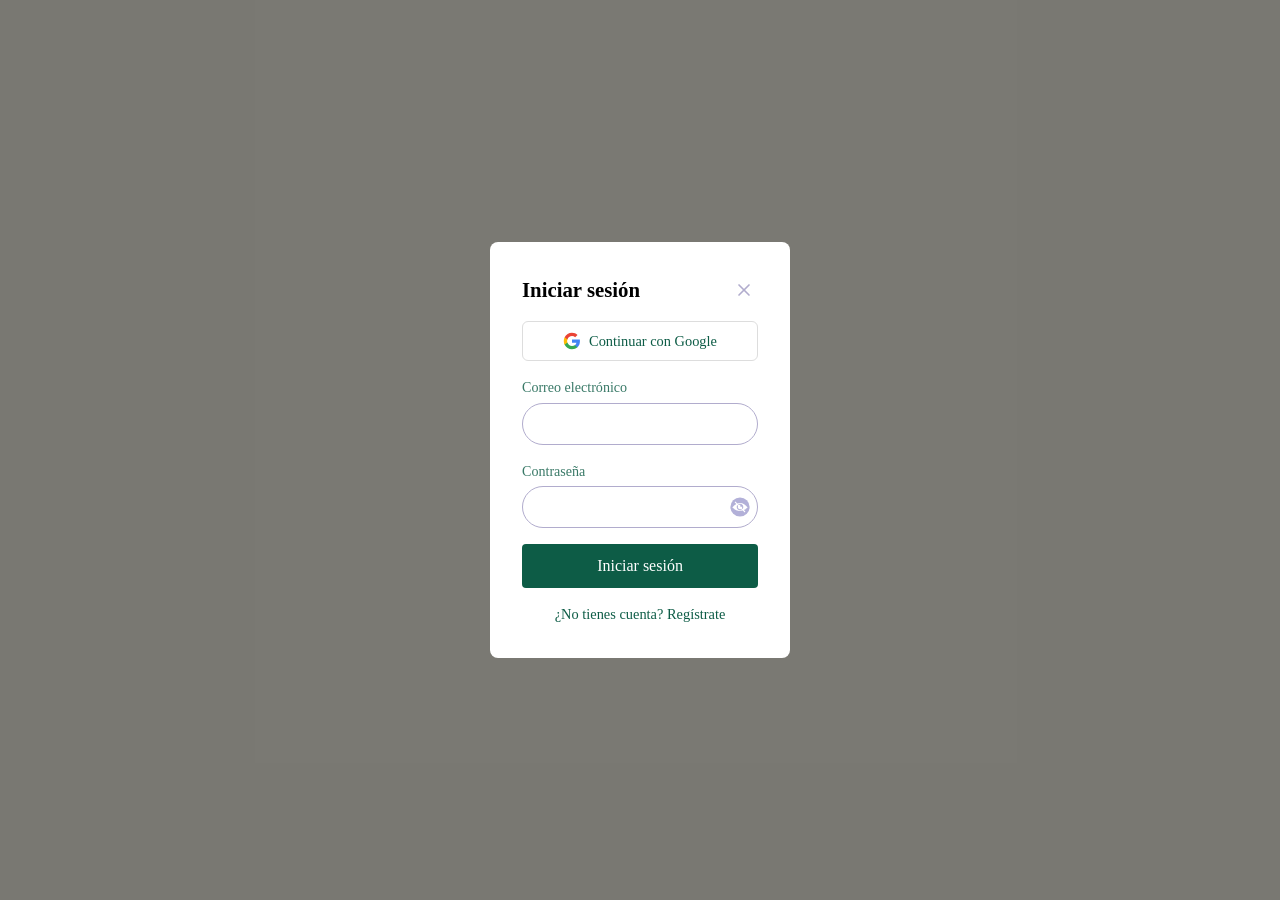
Test: LoginModal component › shows loading state during submission
The width and height of the screenshot is (1280, 900).
In the field labelled "Correo electrónico": (640, 424) [522,403,758,445], type "test@example.com"
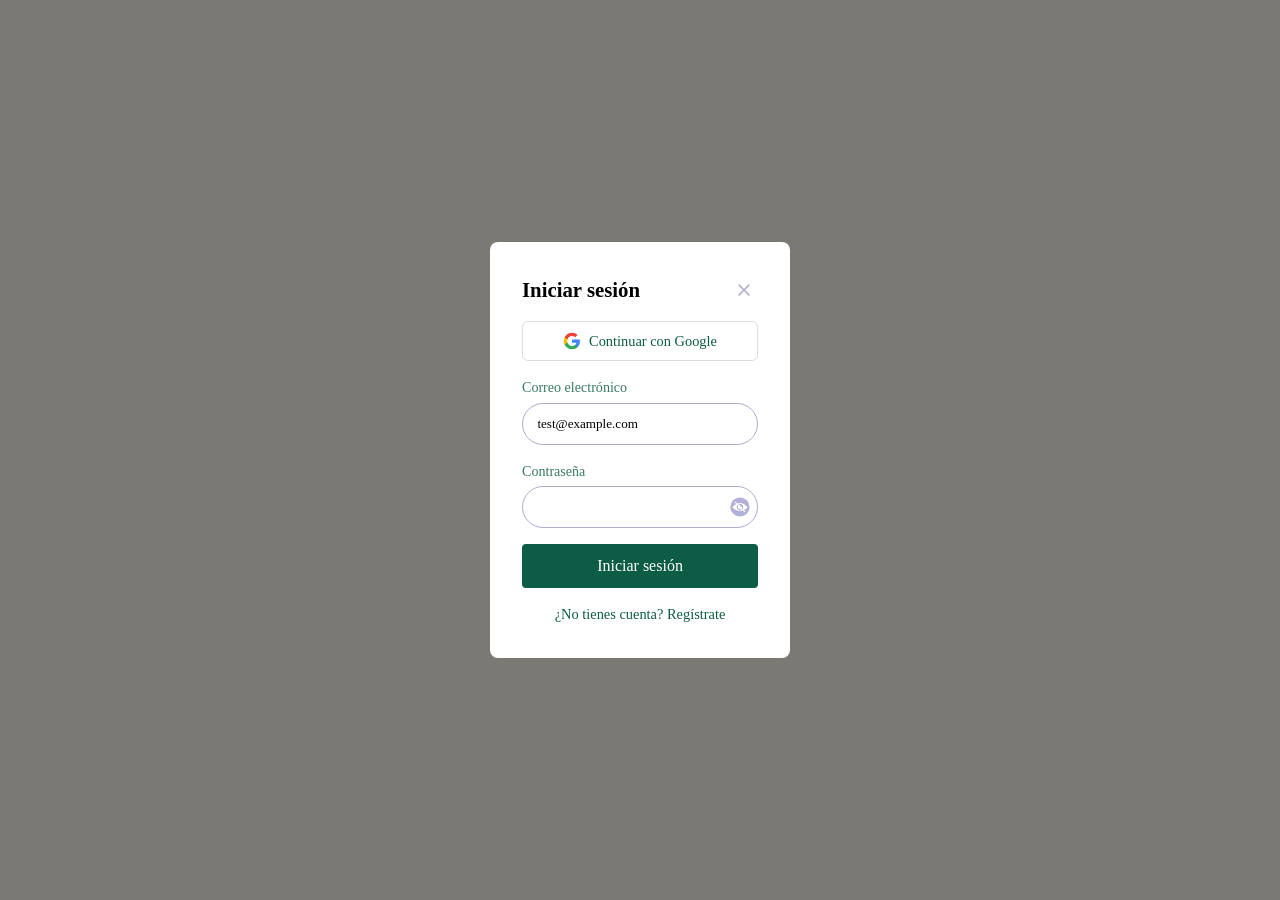
In the password field labelled "Contraseña": (640, 508) [522,486,758,528], type "password123"
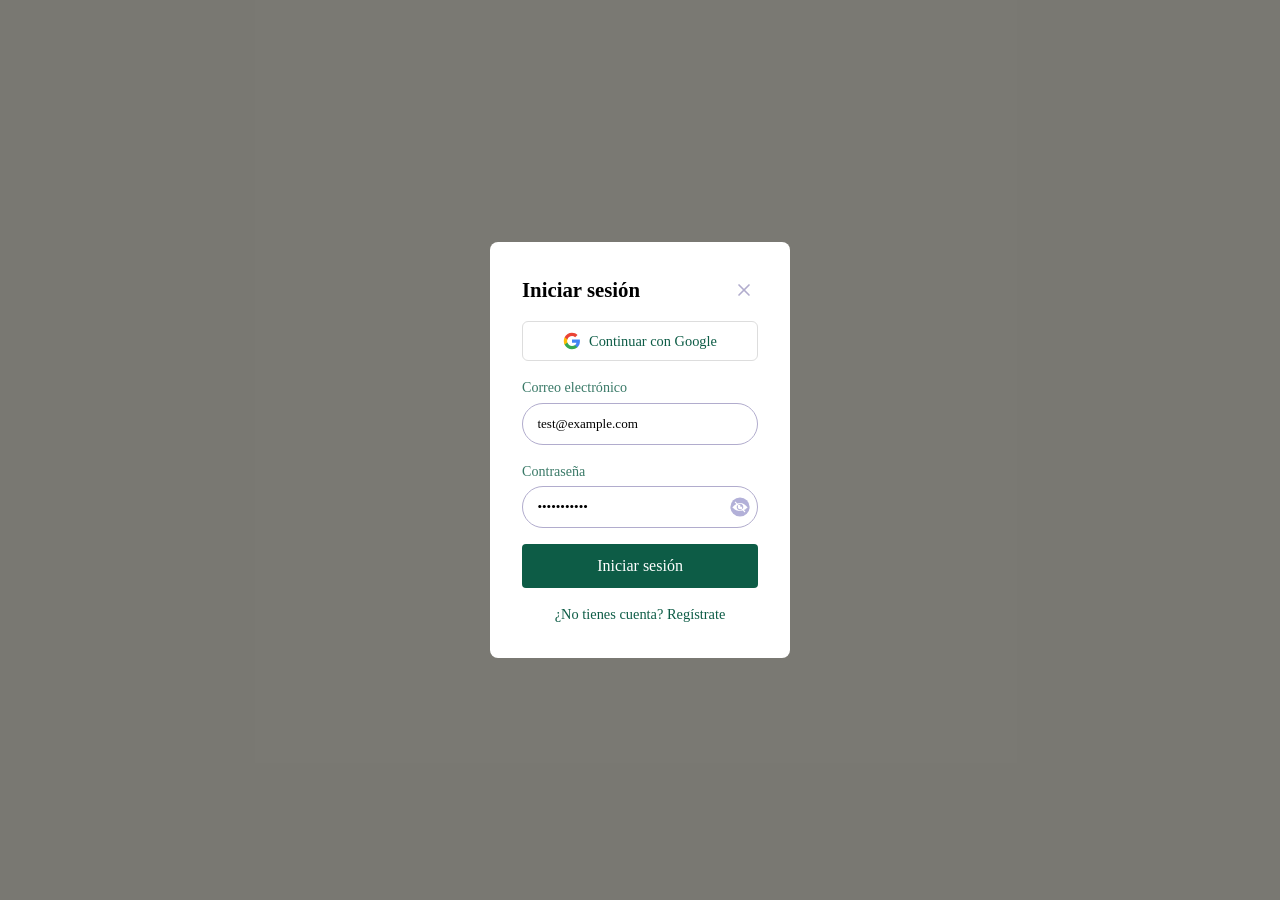
Click the button "Iniciar sesión": (640, 566) [522,544,758,588]
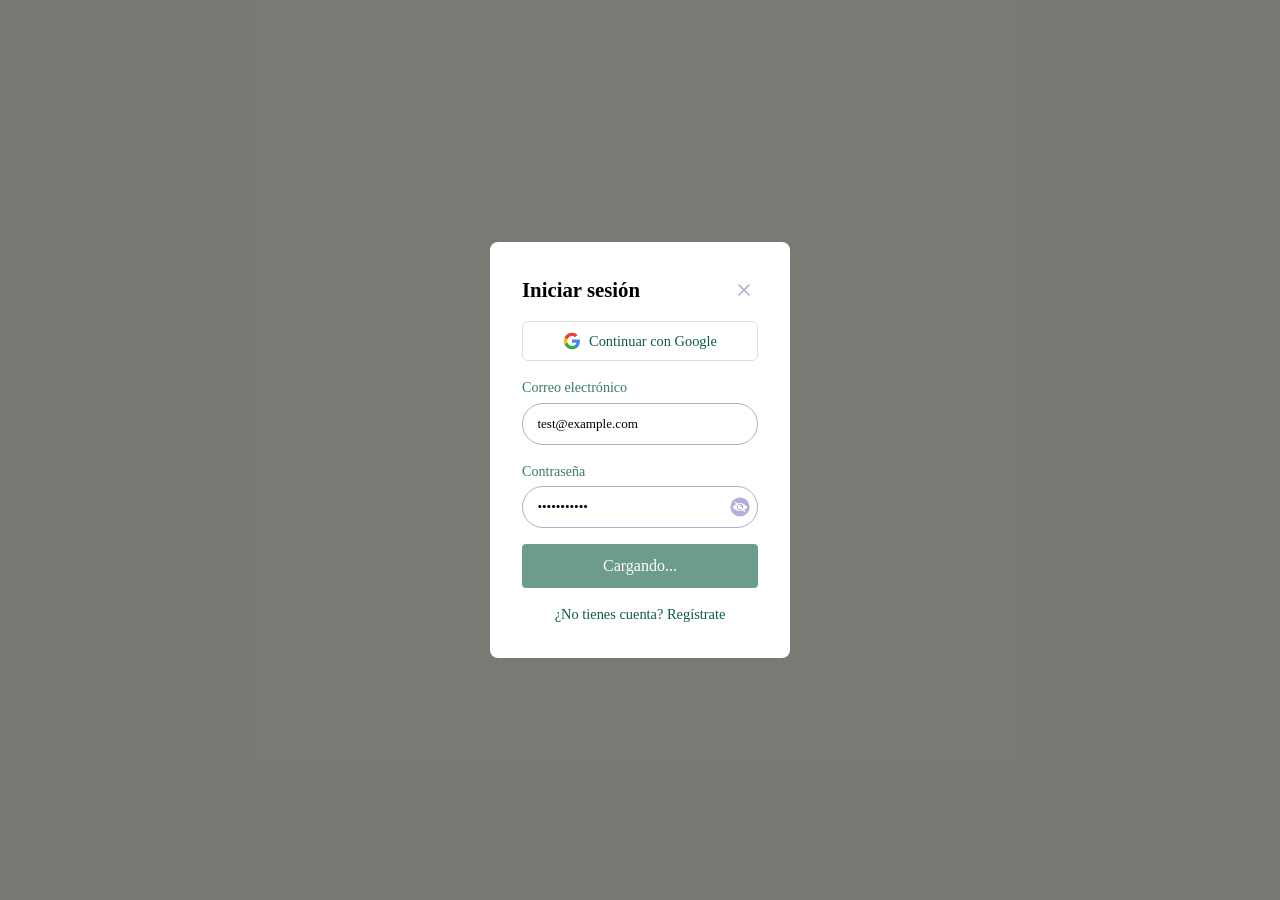
Result: the button "Cargando..." is disabled at [522,544,758,588]
